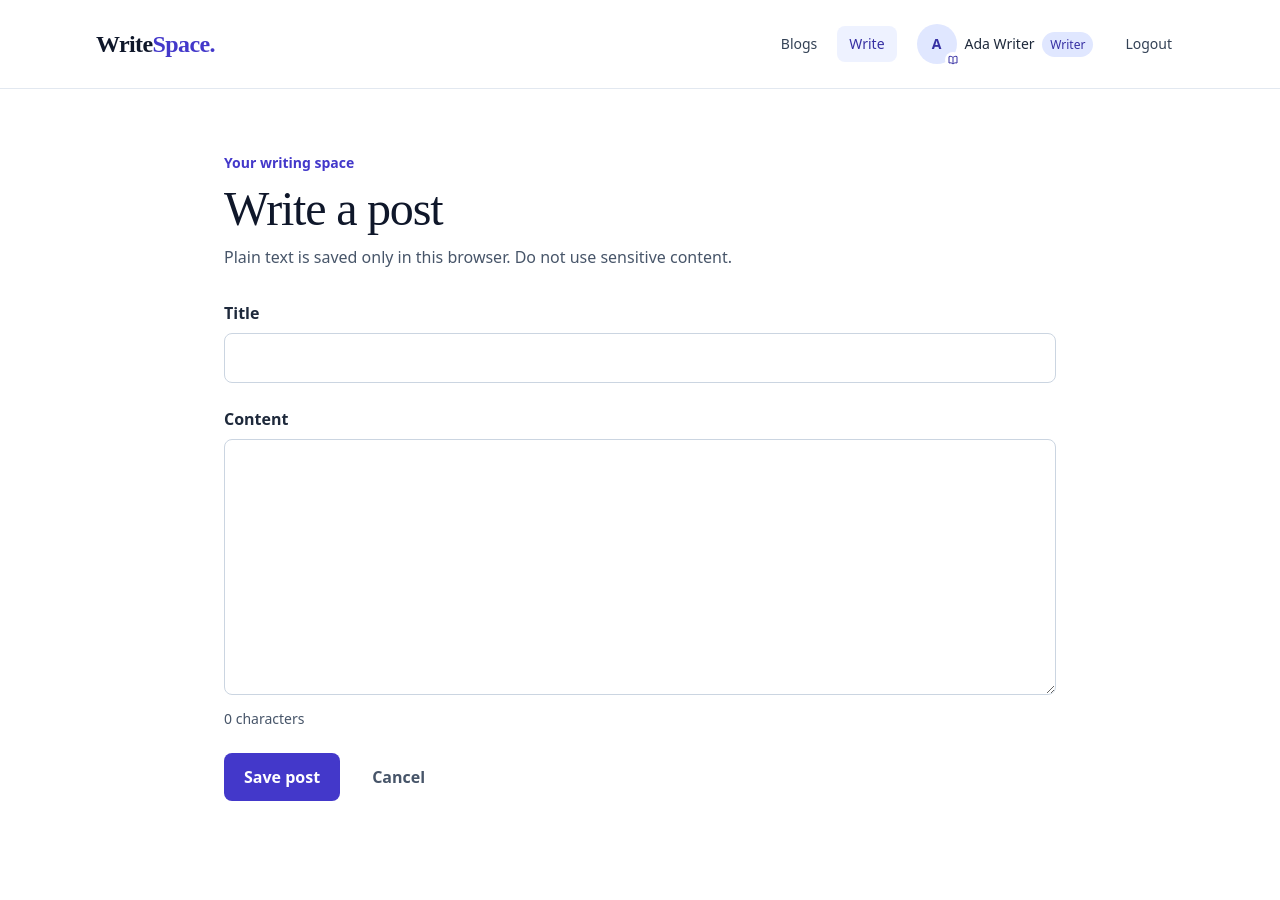
Test: post authoring › rejects malformed or unavailable storage rather than overwriting it
Type "Title" into the field labelled "Title".
click(640, 358); type("Title")  # box [224,333,1056,383]
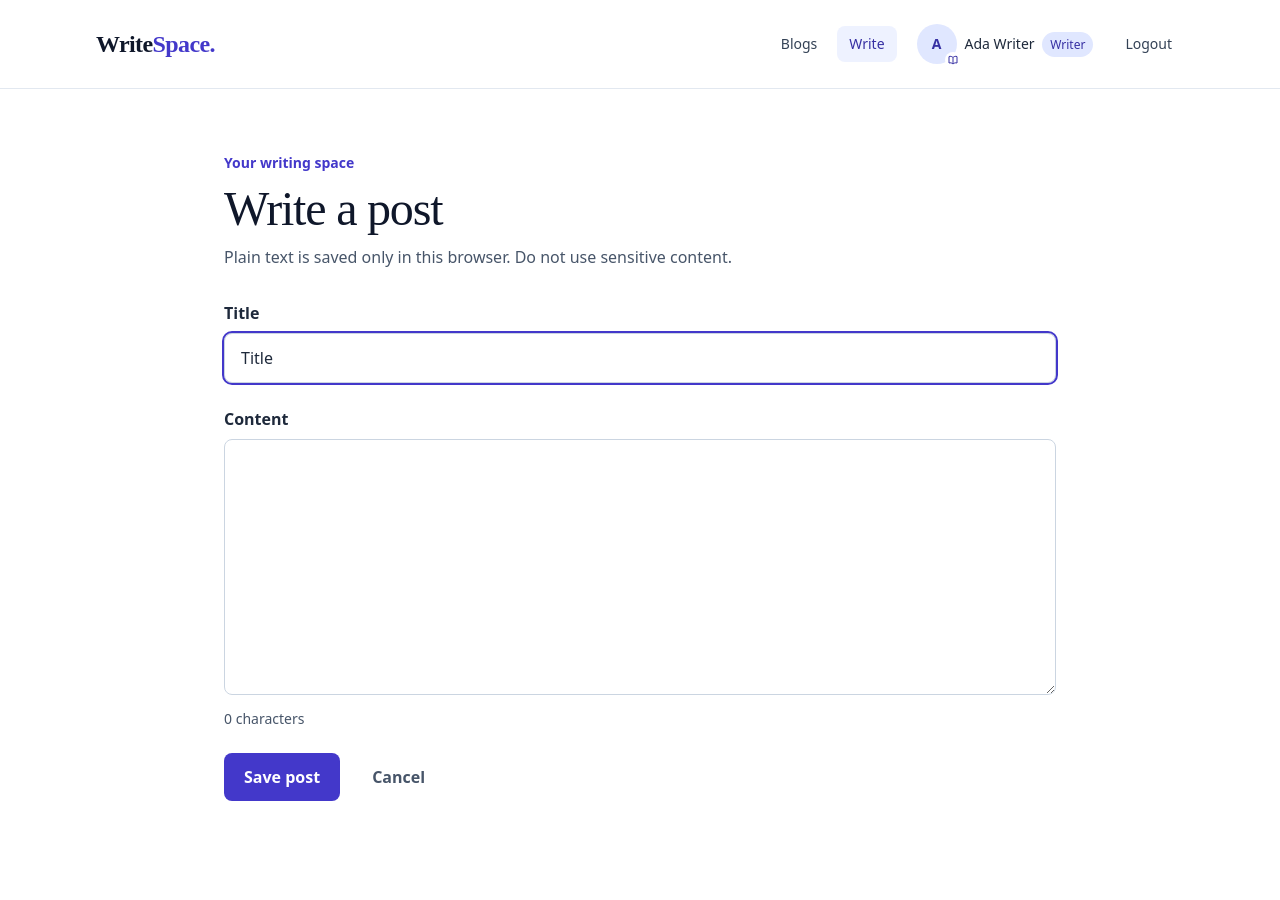
Type "Text" into the text box labelled "Content".
click(640, 567); type("Text")  # box [224,439,1056,695]
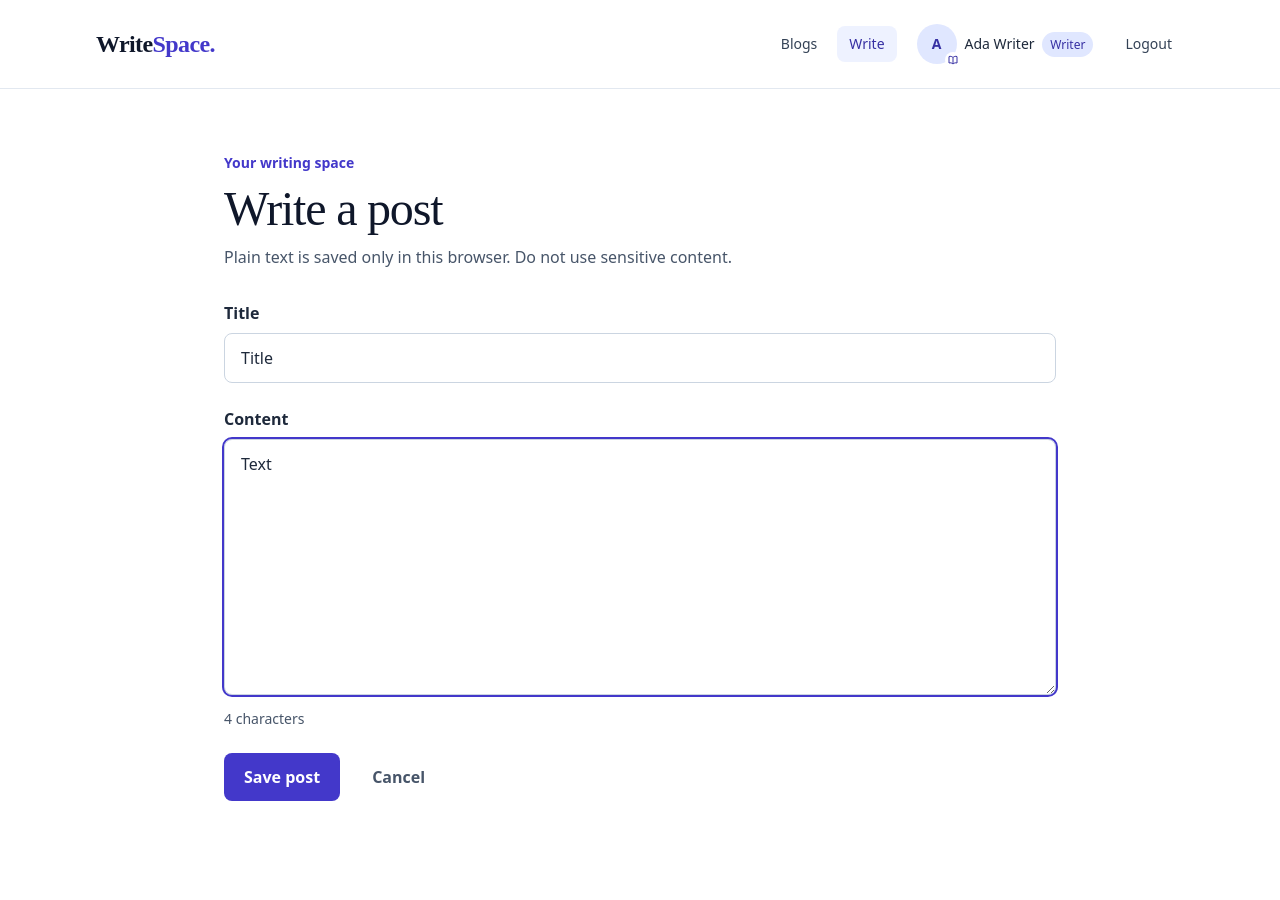
Click the button "Save post".
click(282, 777)  # box [224,753,340,801]
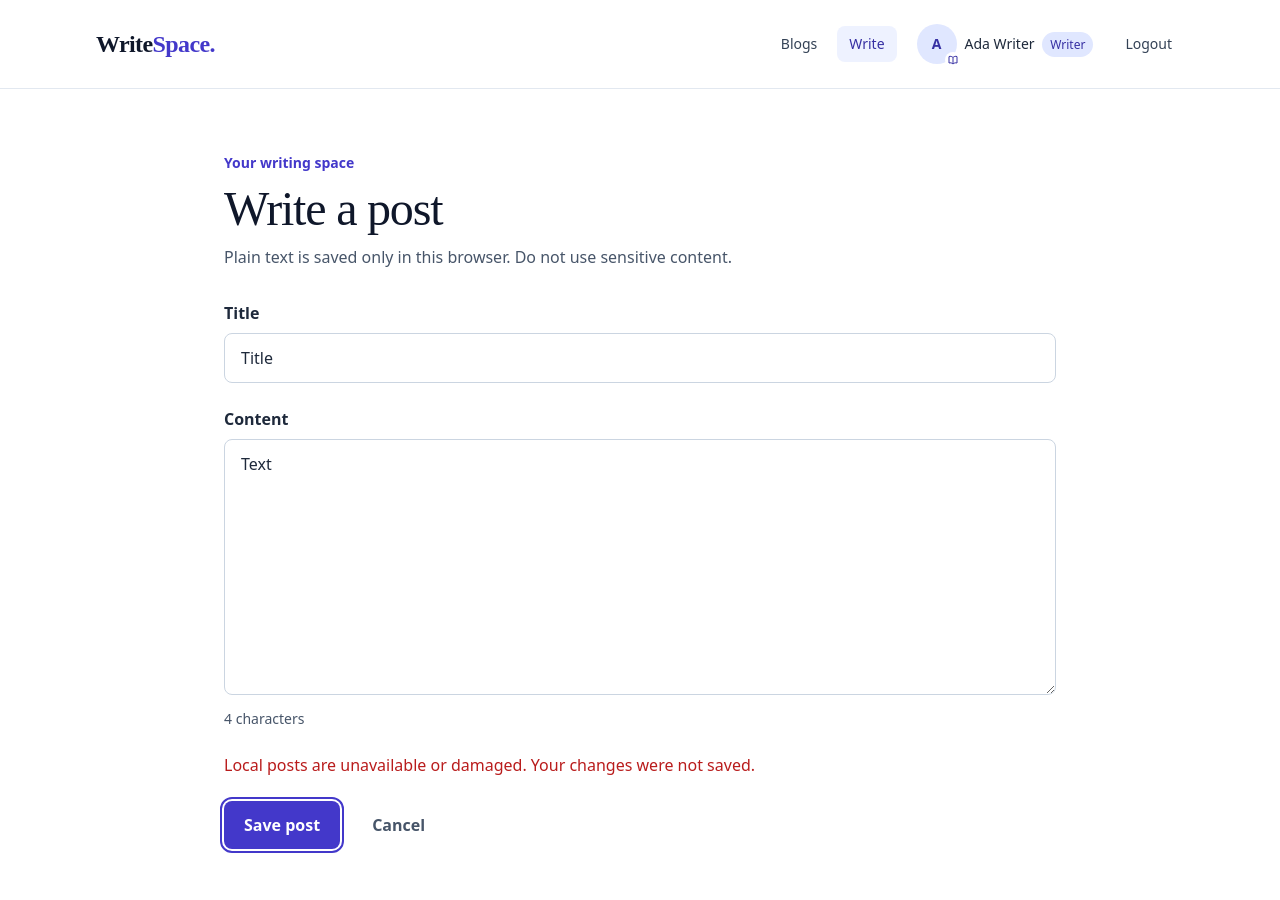
Expected: the message shows "not saved", [224,754,755,776]
